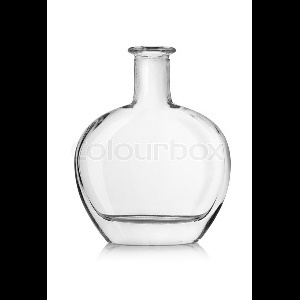emptybottle: (75, 46, 231, 246)
